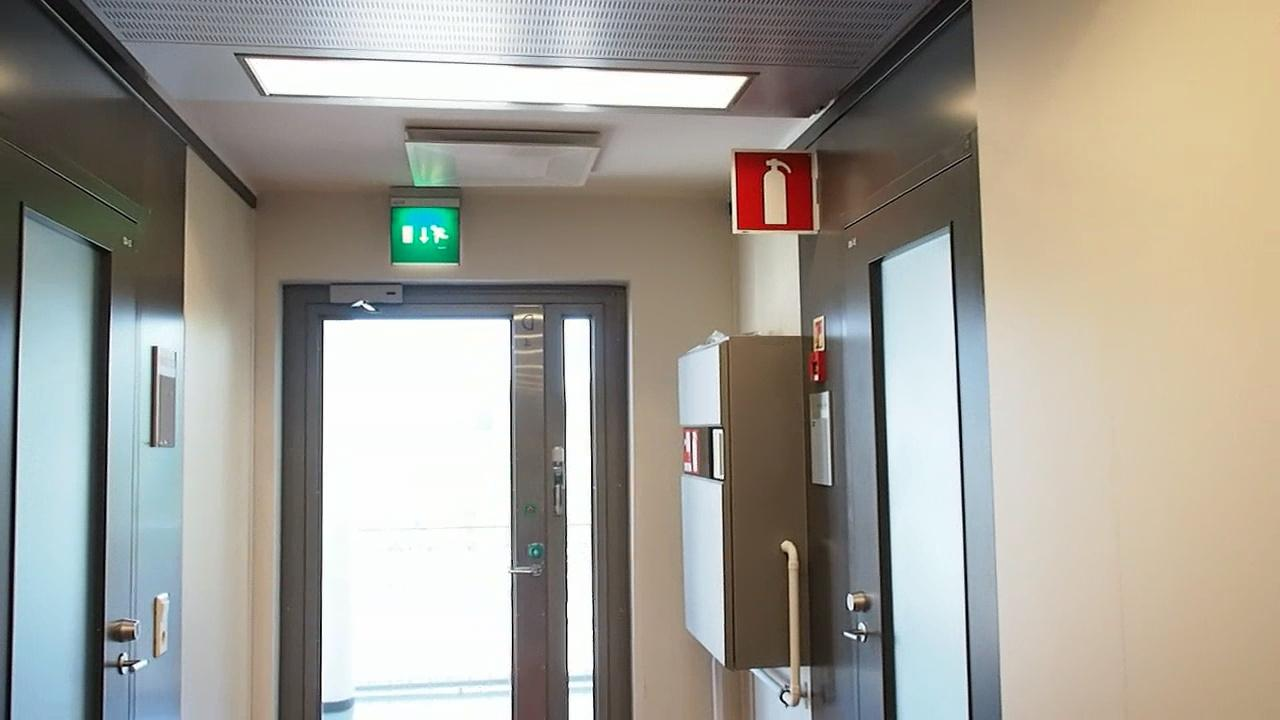exit: (386, 201, 459, 267)
fireextinguisher: (734, 147, 816, 230)
